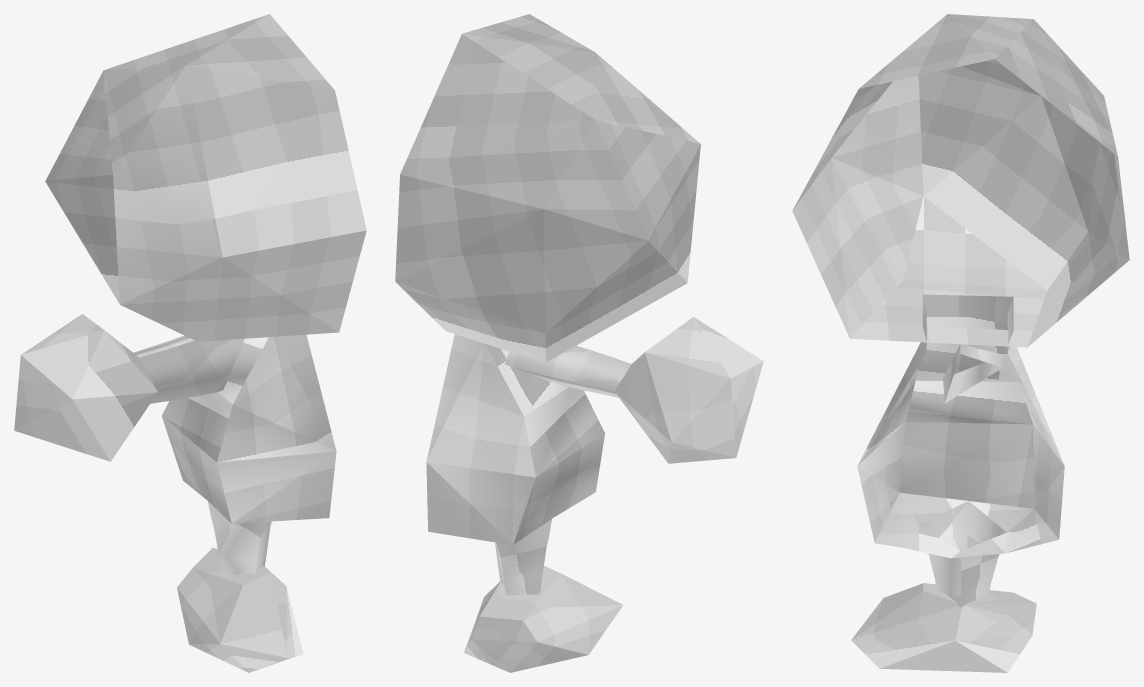
The model's file is SKATEGAMEPLAYER.glb.
3 renders of one model, left to right at view 1: azimuth 30°, elevation 25°; view 2: azimuth 150°, elevation 25°; view 3: azimuth 270°, elevation 25°, orthographic. The views are drawn at different scales.
Visible parts, largest first — view 1: Cowboy.004; view 2: Cowboy.004; view 3: Cowboy.004.
Part boxes in pixels (x1,y1,x2,y2): Cowboy.004: [14, 14, 366, 672]; Cowboy.004: [395, 14, 763, 672]; Cowboy.004: [792, 14, 1129, 672].
Bounding box in the file's own units: 1.3 × 2.82 × 1.39.
1 material, 1 textured.
